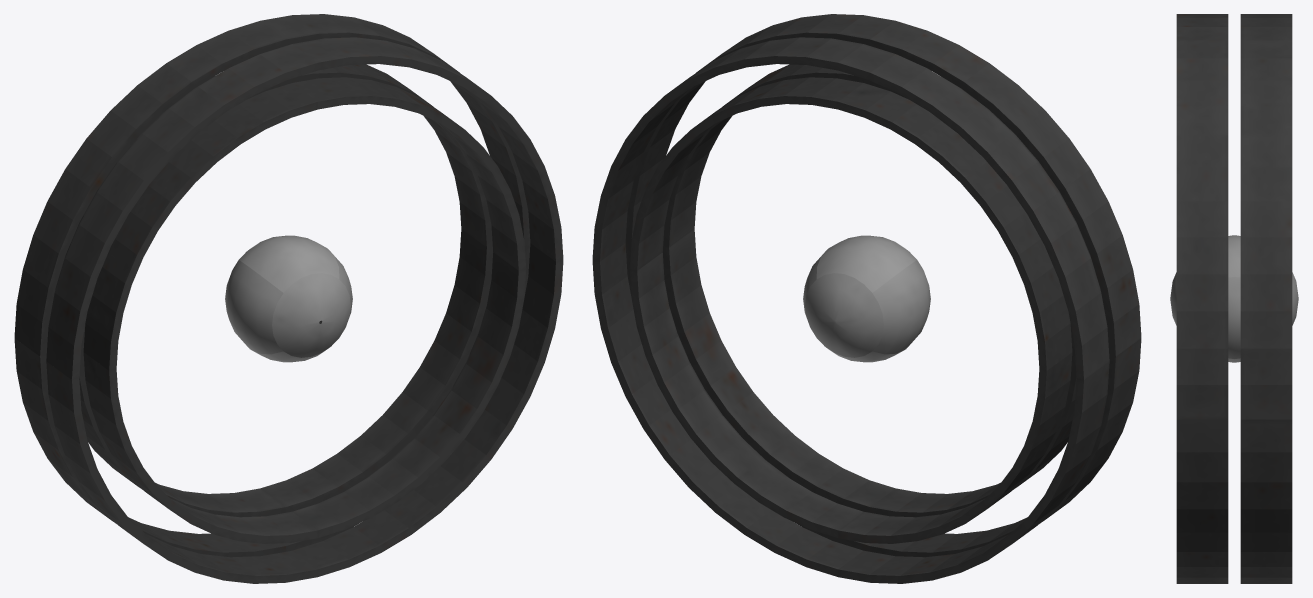
The model's file is module-draggable-01.glb.
3 renders of one model, left to right at view 1: azimuth 30°, elevation 25°; view 2: azimuth 150°, elevation 25°; view 3: azimuth 270°, elevation 25°, orthographic.
Parts seen in each view (by area): view 1: Mesh_0.001; view 2: Mesh_0.001; view 3: Mesh_0.001.
Part boxes in pixels (x1,y1,x2,y2): Mesh_0.001: [14, 14, 563, 583]; Mesh_0.001: [592, 14, 1141, 583]; Mesh_0.001: [1170, 14, 1298, 583].
Size of the model in its own units: 1.78 by 1.78 by 0.4.
Materials: 1 (1 with a texture image).
